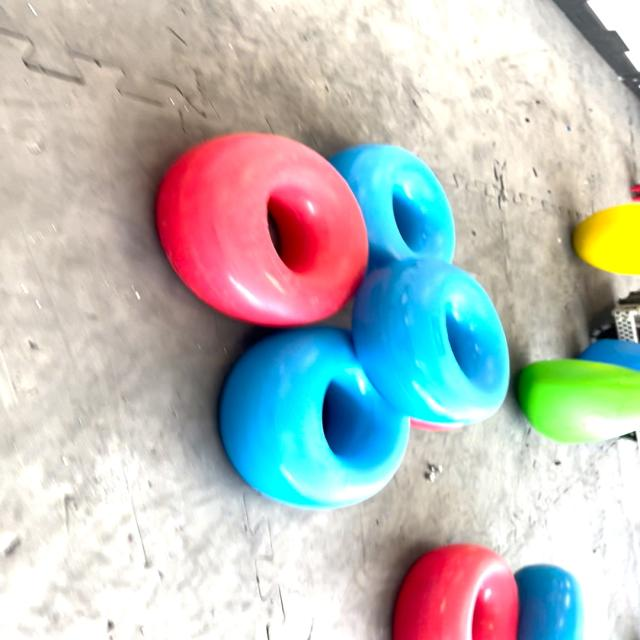Blue-Ring: (220, 328, 409, 510), (353, 259, 509, 425), (329, 144, 456, 269), (516, 564, 582, 639)
Red-Ring: (156, 132, 369, 328), (393, 544, 518, 639)
